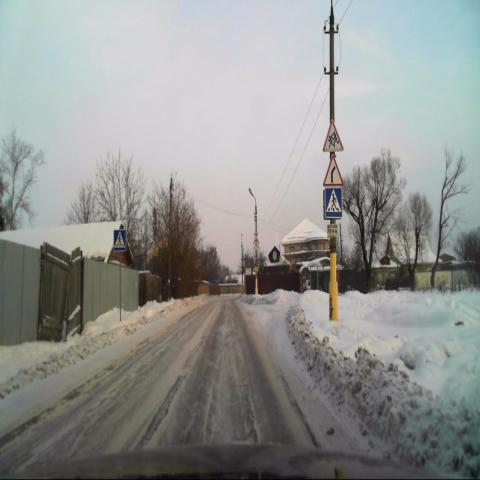1_11_1: (324, 155, 342, 186)
